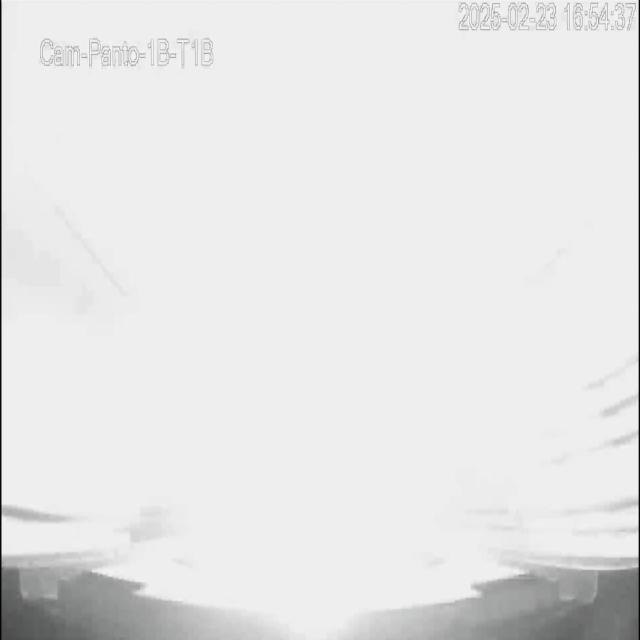Camera Stamp: (36, 30, 222, 79)
Date Stamp: (447, 0, 639, 41)
Sparks: (1, 2, 640, 638)
